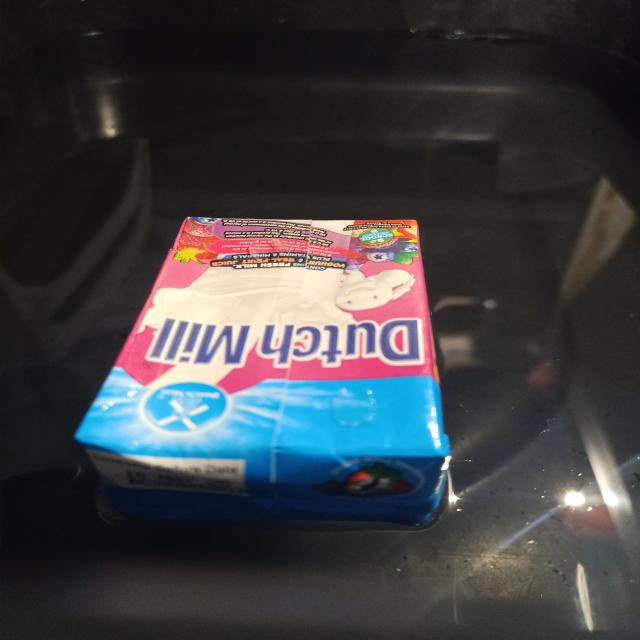Cardboard Box: (76, 217, 450, 525), (329, 492, 337, 496)
